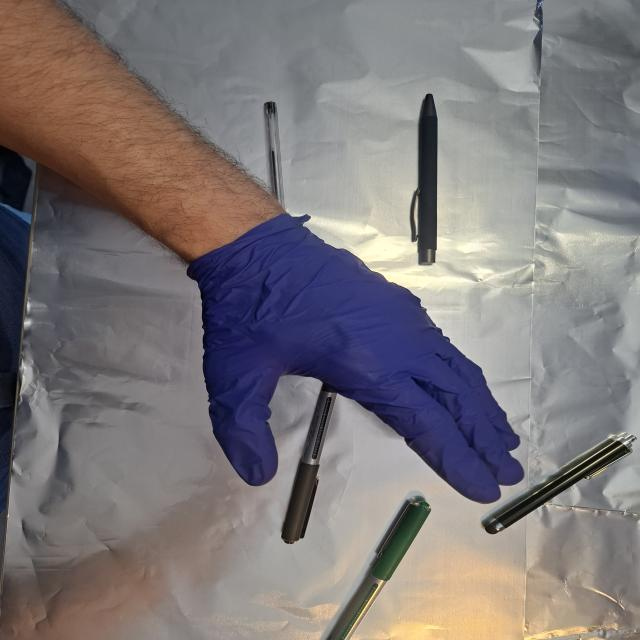glove_on: (193, 212, 528, 506)
